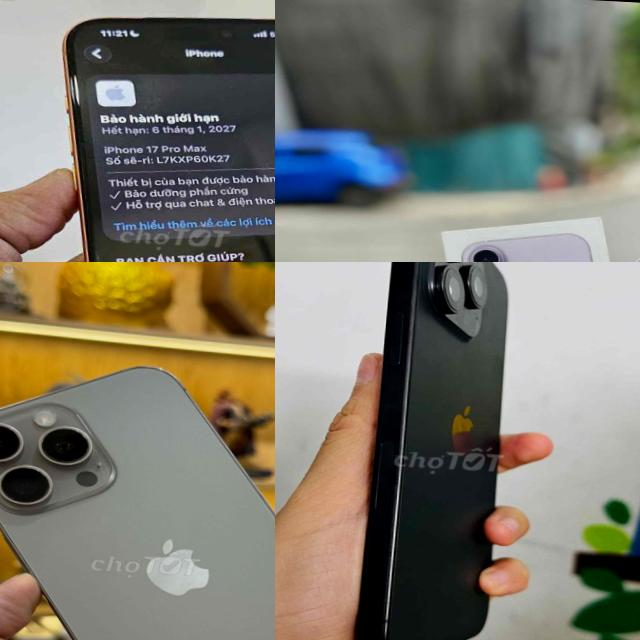gen_15: (336, 262, 549, 640)
gen_16: (0, 349, 275, 640)
gen_17: (40, 0, 275, 262)
